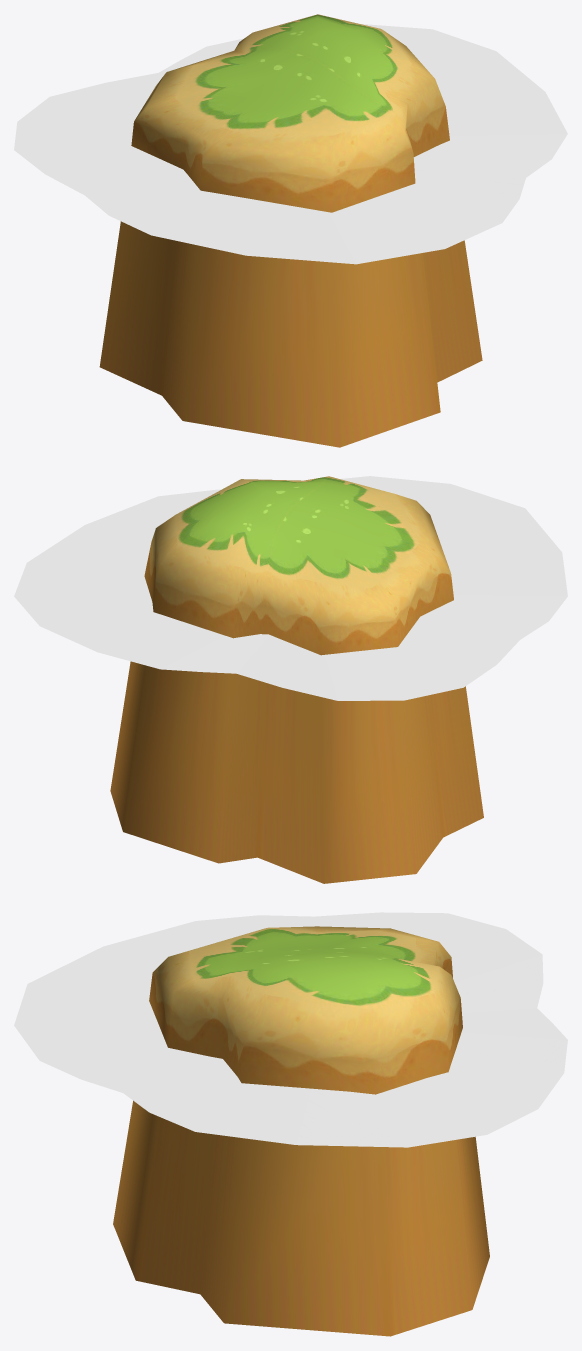
File: Island_Small_04.fbx
3 views of the same model, one above another, from view 1: azimuth 30°, elevation 25°; view 2: azimuth 150°, elevation 25°; view 3: azimuth 270°, elevation 25° (orthographic). The views are drawn at different scales.
Parts seen in each view (by area): view 1: Island_Color_12, Wave_sleeve; view 2: Island_Color_12, Wave_sleeve; view 3: Island_Color_12, Wave_sleeve.
Part boxes in pixels (x1,y1,x2,y2): Island_Color_12: (99, 14, 482, 447); Wave_sleeve: (14, 24, 567, 264); Island_Color_12: (110, 476, 483, 883); Wave_sleeve: (14, 476, 567, 700); Island_Color_12: (113, 926, 489, 1336); Wave_sleeve: (14, 912, 567, 1147).
Size of the model in its own units: 28.41 by 17.74 by 28.29.
